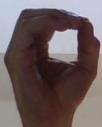O: (2, 6, 102, 118)
